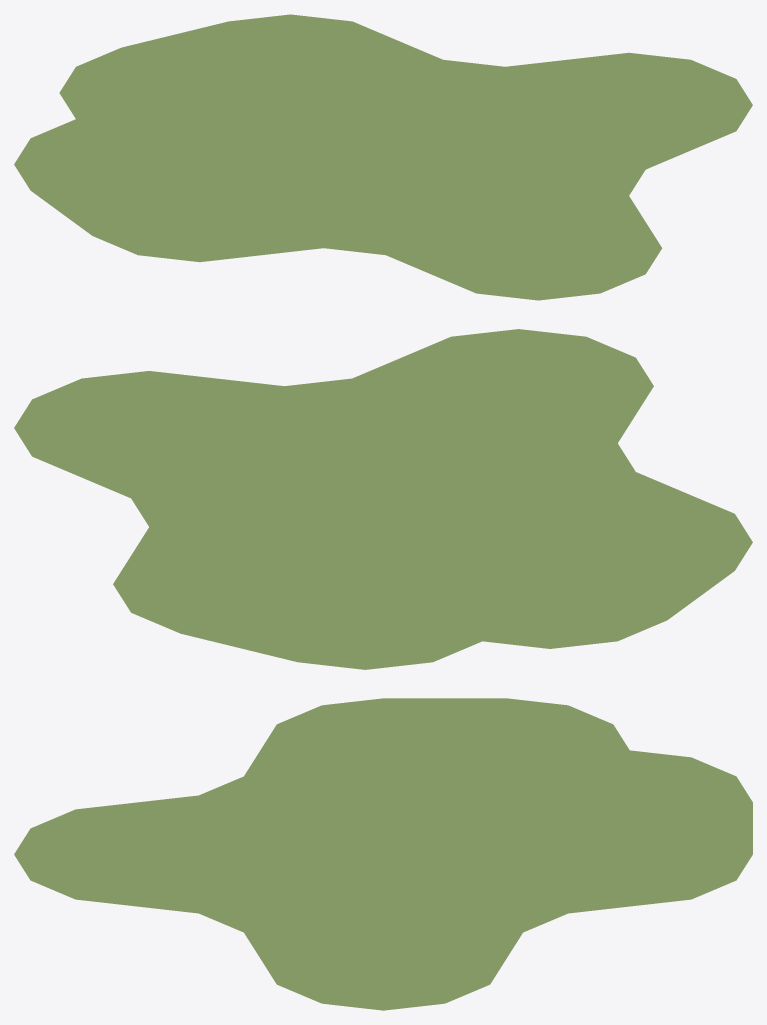
The model's file is meadow.glb.
3 renders of one model, top to bottom at view 1: azimuth 30°, elevation 25°; view 2: azimuth 150°, elevation 25°; view 3: azimuth 270°, elevation 25°, orthographic. The views are drawn at different scales.
Visible parts, largest first — view 1: patch-grass; view 2: patch-grass; view 3: patch-grass.
Boxes of the visible parts, x1,y1,x2,y2 form: patch-grass: (14,14,752,300); patch-grass: (14,329,752,669); patch-grass: (14,698,752,1010).
Size of the model in its own units: 17.32 by 0 by 17.32.
